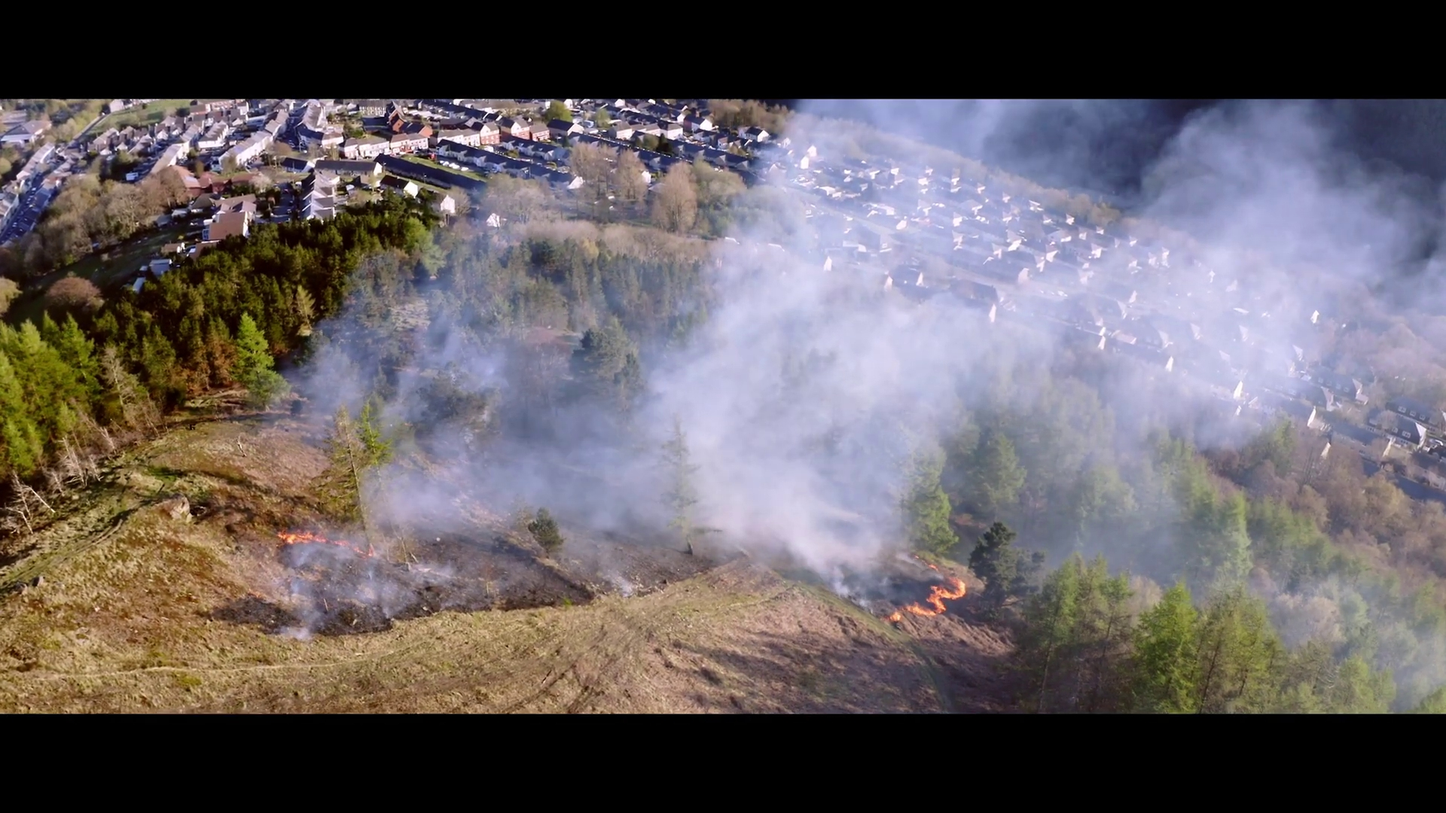forest_fire: (886, 577, 966, 621), (277, 531, 377, 557), (923, 562, 940, 573)
